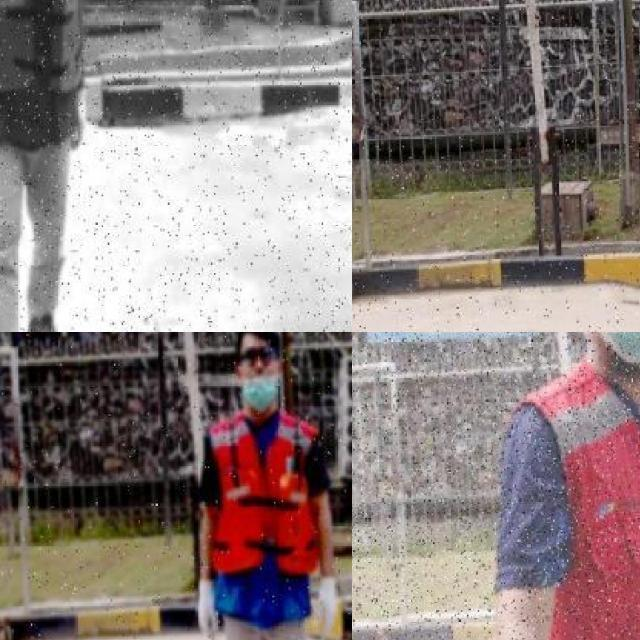apron: (309, 575, 340, 640), (190, 577, 221, 640), (70, 89, 90, 154)
